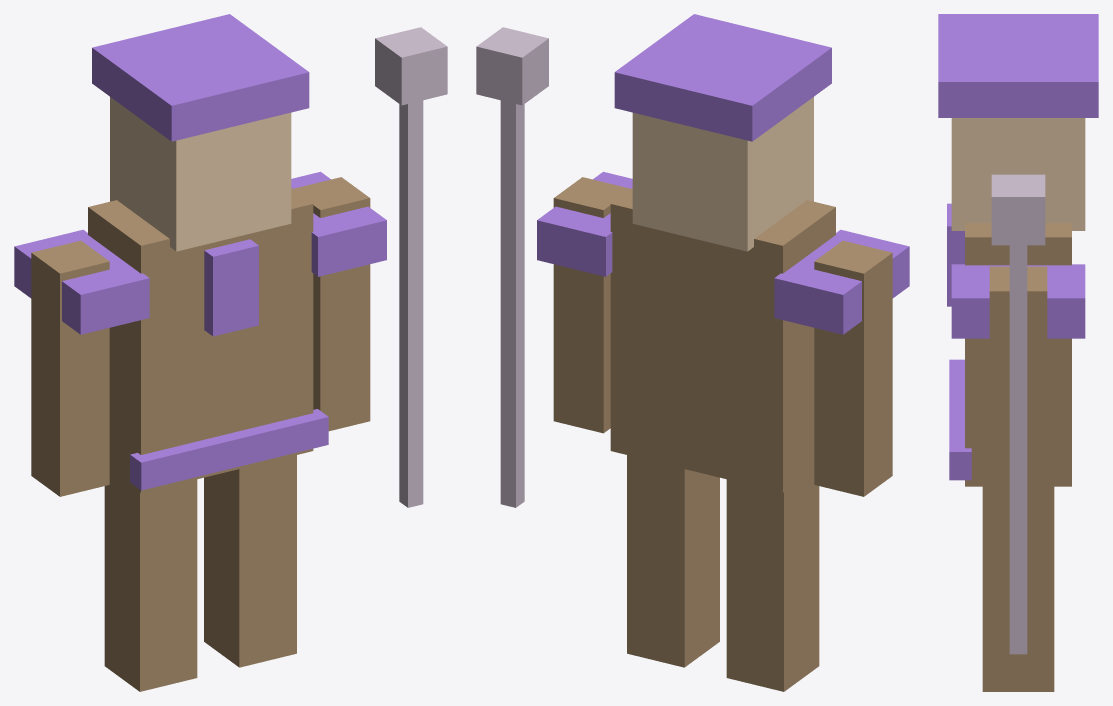
File: 06_elo_trenchmark_pilgrim_near_echo.glb
3 renders of one model, left to right at view 1: azimuth 30°, elevation 25°; view 2: azimuth 150°, elevation 25°; view 3: azimuth 270°, elevation 25°, orthographic.
Parts seen in each view (by area): view 1: Elo Trenchmark, Pilgrim near Echo; view 2: Elo Trenchmark, Pilgrim near Echo; view 3: Elo Trenchmark, Pilgrim near Echo.
Boxes of the visible parts, box(x1,y1,x2,y2) form: Elo Trenchmark, Pilgrim near Echo: box(14, 14, 447, 691); Elo Trenchmark, Pilgrim near Echo: box(476, 14, 909, 691); Elo Trenchmark, Pilgrim near Echo: box(938, 14, 1098, 691).
Size of the model in its own units: 0.9546 by 1.41 by 0.3386.
